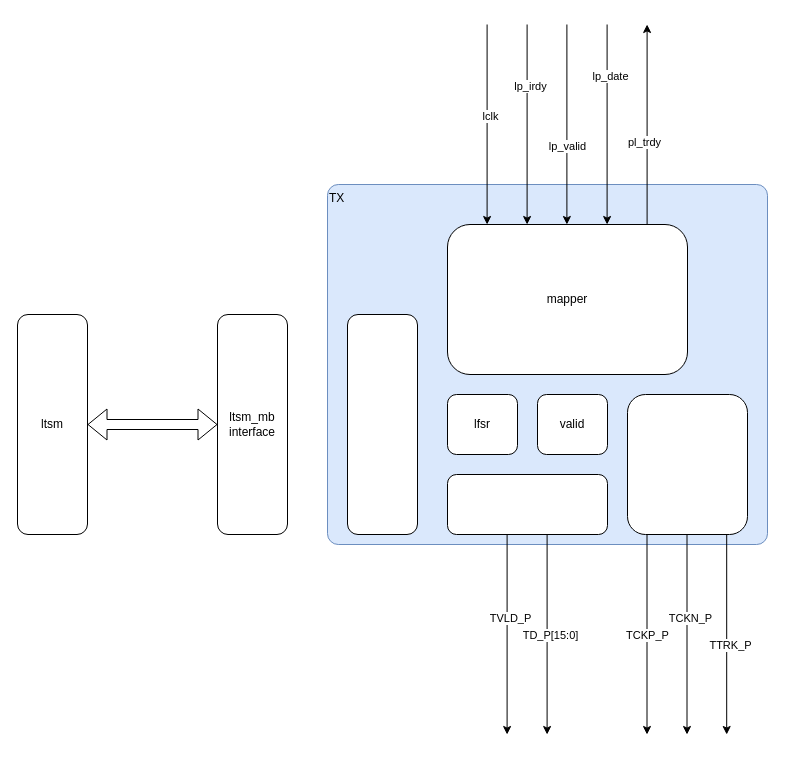
The diagram is 785 pixels wide and 760 high, and some of its shapes have lost their labels. Here are the shapes that lost their labels. From the top down, the centre of each, then its label:
(x=382, y=424): width degredation
(x=687, y=464): clk
(x=527, y=504): ser
